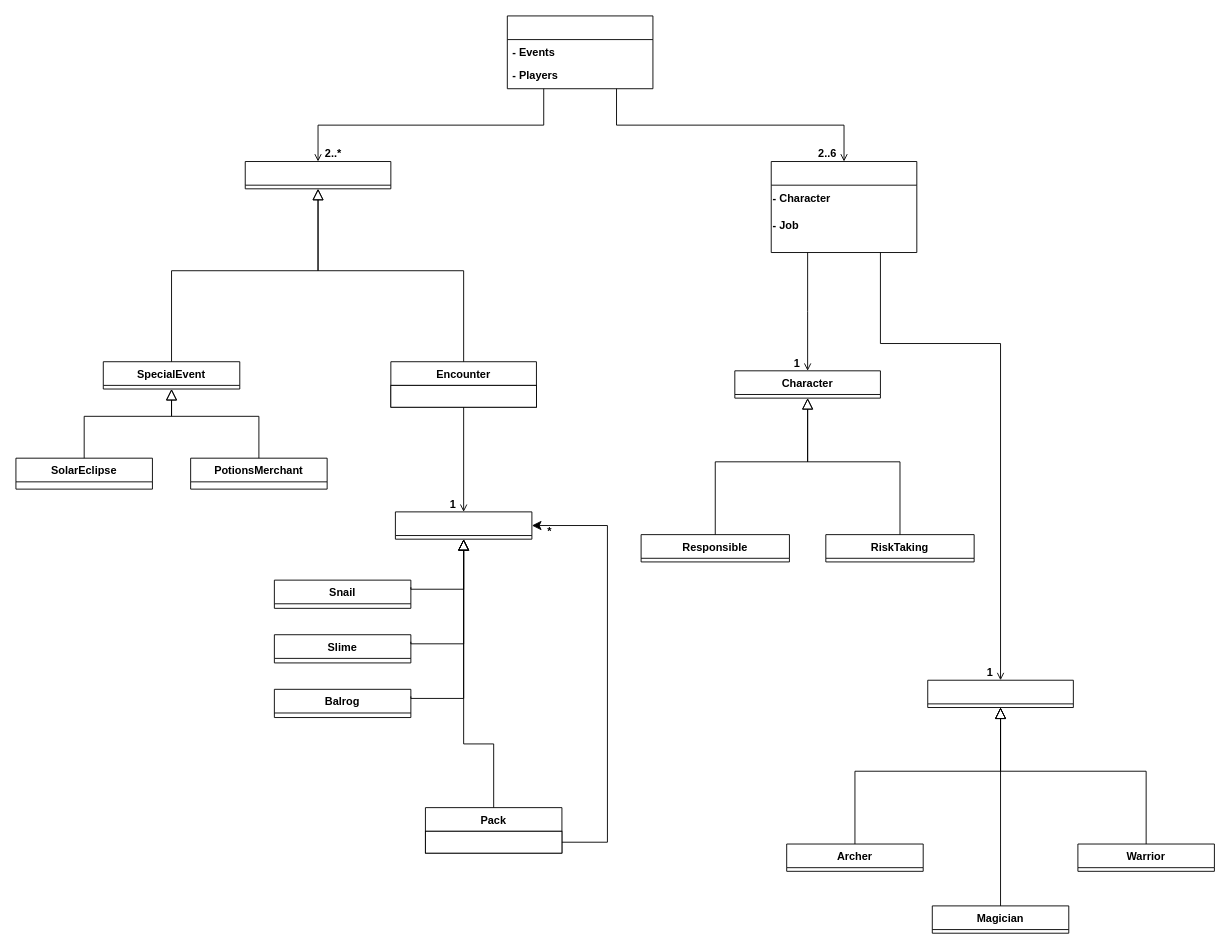
Some shapes in this 1230 by 949 pixel diagram are drawn without their labels. The shapes that lost their labels are listed below. From the top down, each one's box as (x1, y1, x2, y2) in pixels, then its label:
(506, 15, 653, 89): Matam Story
(244, 161, 391, 189): Event
(770, 161, 917, 253): Player
(390, 384, 536, 407): - monster
(394, 511, 532, 539): Monster
(927, 679, 1073, 708): Job
(425, 830, 562, 853): - monsters
